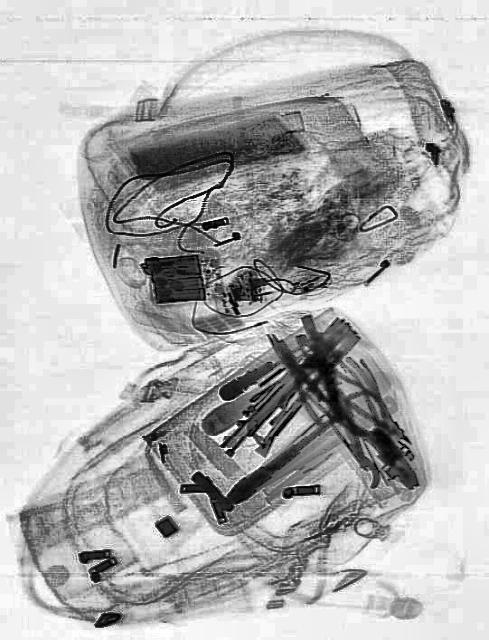Pliers: (312, 346, 434, 506)
